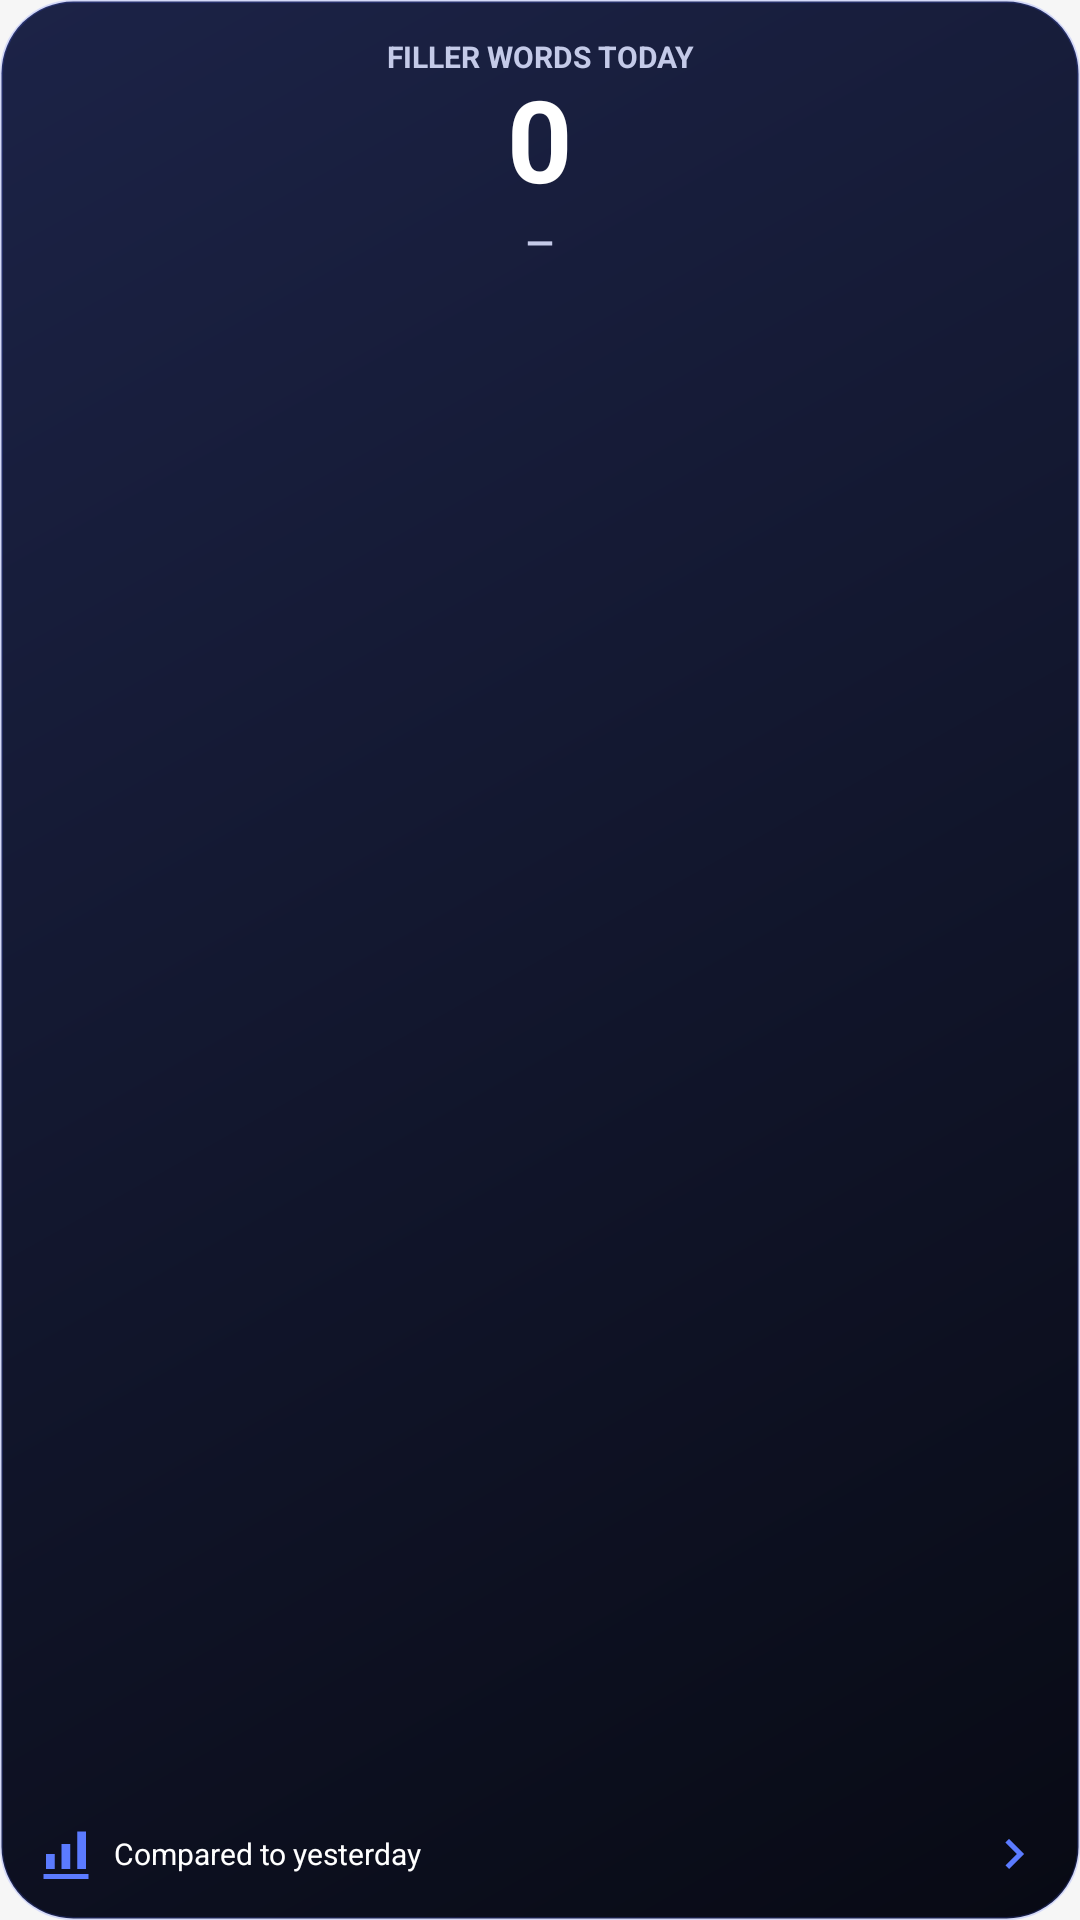

Where icons sit on this 1080px x 1920px app screen, as rect(x1, y1, x2, y2):
chart bars: rect(43, 1831, 89, 1879)
chevron widget: rect(1005, 1839, 1024, 1869)
